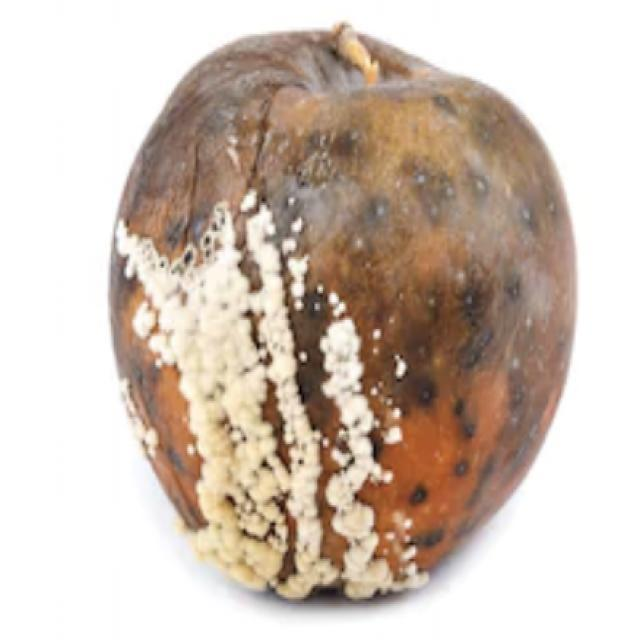Rotten: (104, 17, 578, 603)
